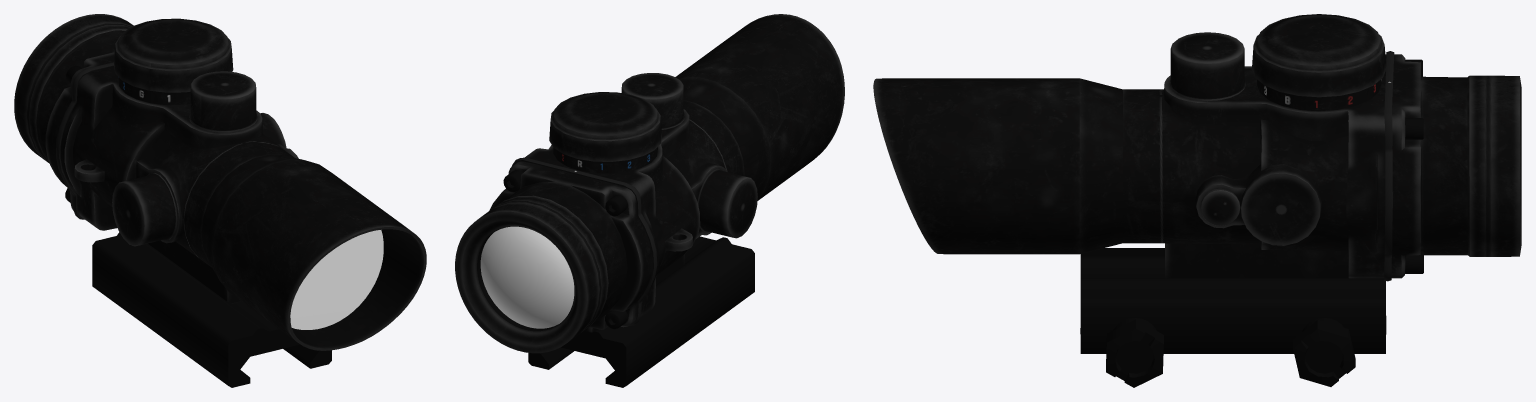
The model's file is Scope 4x.fbx.
3 renders of one model, left to right at view 1: azimuth 30°, elevation 25°; view 2: azimuth 150°, elevation 25°; view 3: azimuth 270°, elevation 25°, orthographic. The views are drawn at different scales.
Parts seen in each view (by area): view 1: Body, Front; view 2: Body, Back; view 3: Body.
Part boxes in pixels (<box>): Body: <box>14,14,426,387</box>; Front: <box>290,230,383,329</box>; Body: <box>455,14,844,387</box>; Back: <box>480,226,574,328</box>; Body: <box>873,14,1521,387</box>.
Size of the model in its own units: 37.27 by 50.69 by 98.27.
